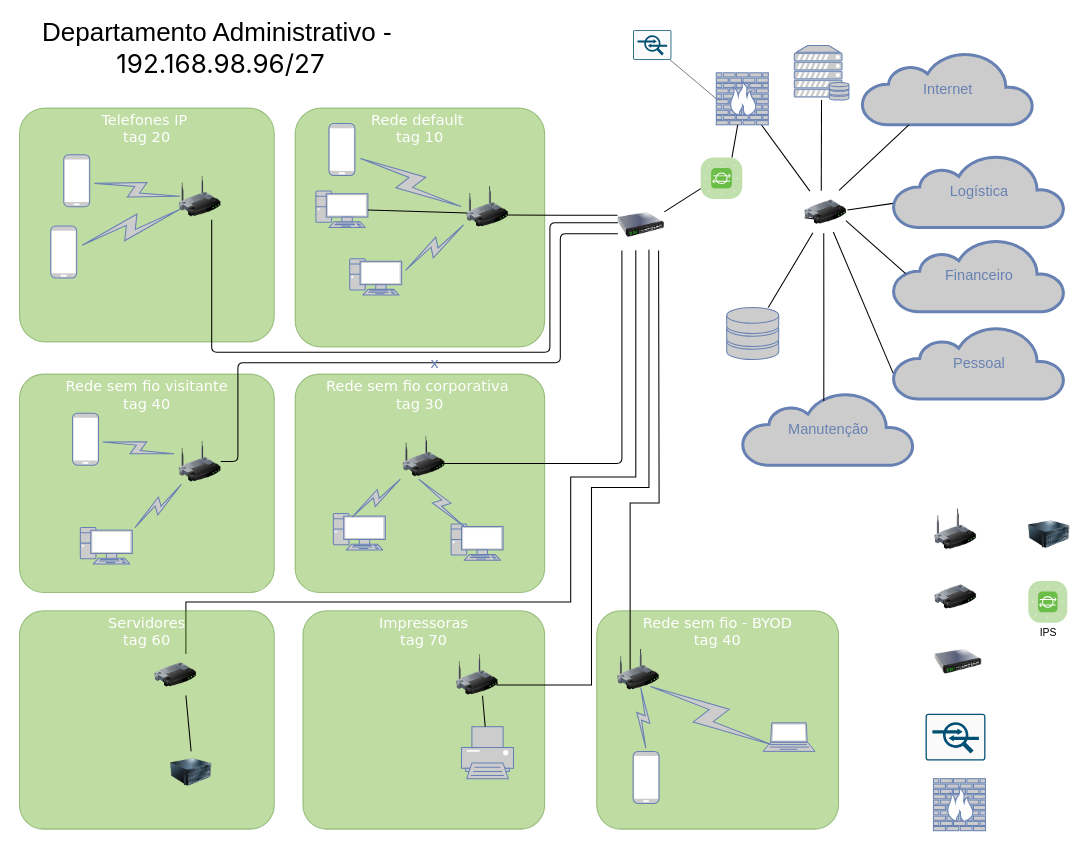
This 1078x855 diagram has some shape labels left out. Each missing label, with the centre of its shape:
"Firewall" goes at (x=959, y=804).
"IDS" goes at (x=955, y=736).
"Roteador com fio" goes at (x=955, y=596).
"Roteador wireless" goes at (x=955, y=529).
"Servidores" goes at (x=1049, y=534).
"Switch" goes at (x=957, y=661).
